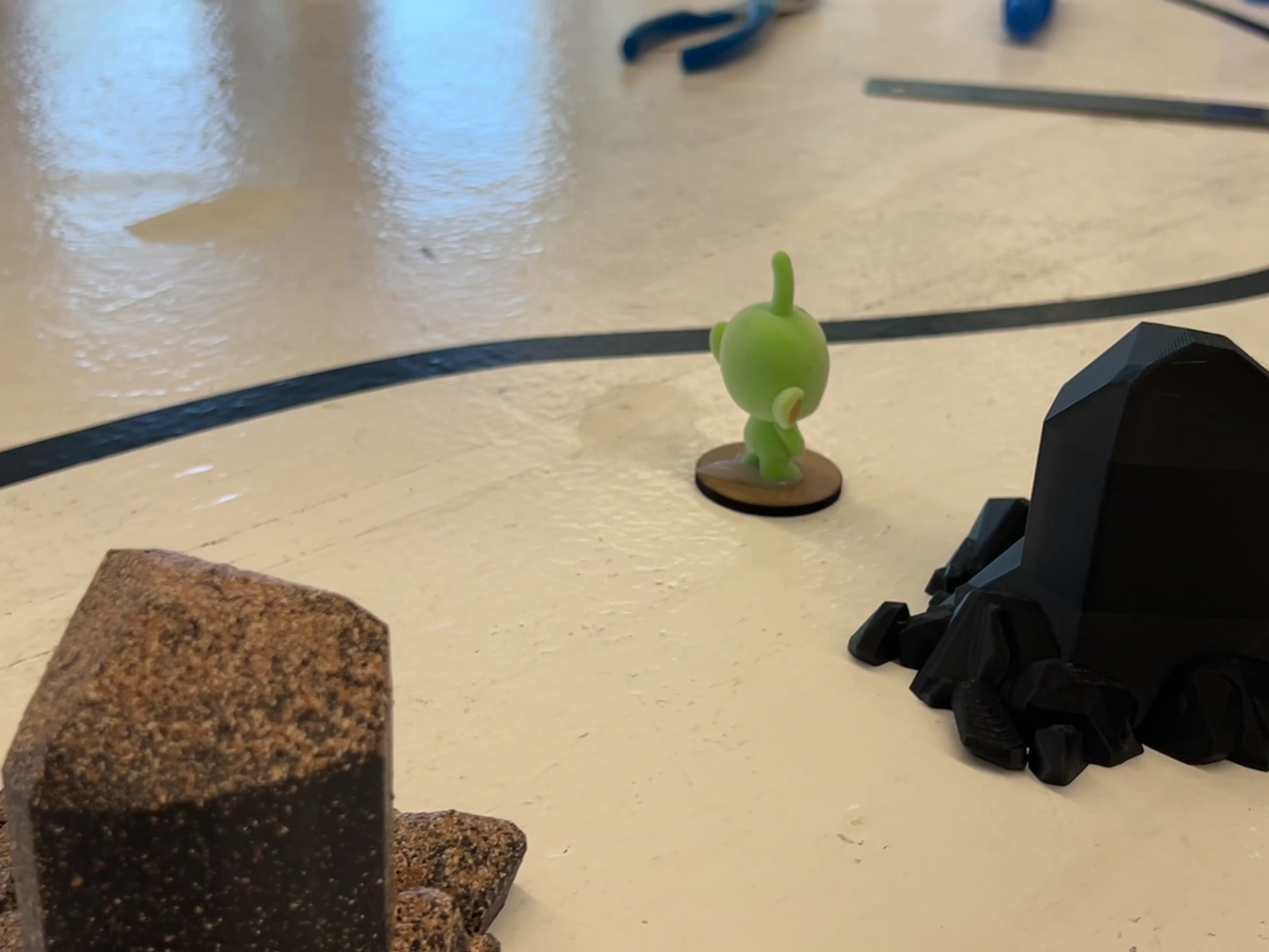teletubby: (709, 252, 829, 484)
